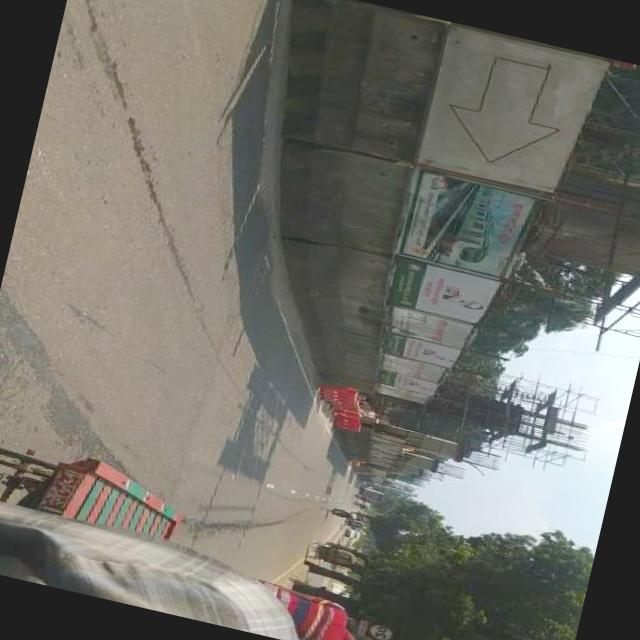bus: (358, 488, 386, 505)
motorcycle: (308, 541, 359, 570), (342, 518, 364, 531), (328, 507, 349, 519)
